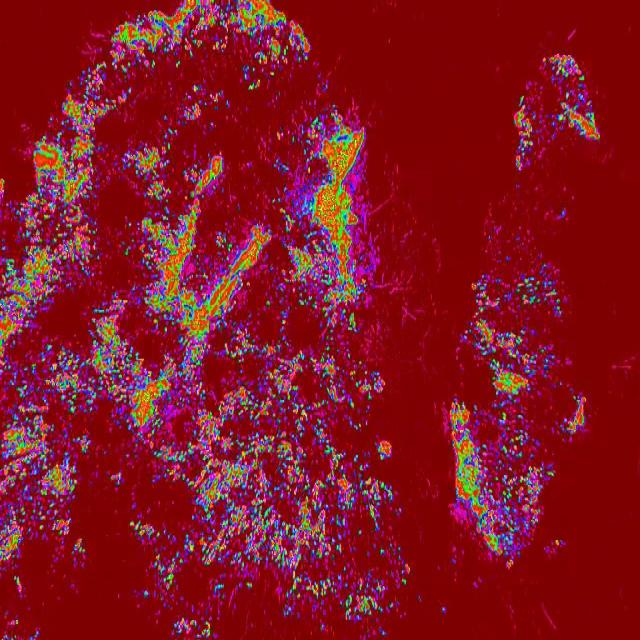fire: (0, 180, 376, 374), (0, 372, 411, 493), (32, 90, 365, 181), (133, 524, 410, 621), (449, 401, 555, 567), (80, 23, 312, 89), (466, 270, 566, 400), (0, 494, 85, 570), (187, 493, 402, 522), (140, 0, 297, 24), (554, 101, 602, 142), (512, 108, 535, 172), (544, 54, 588, 84), (566, 394, 588, 437), (170, 622, 215, 640)
